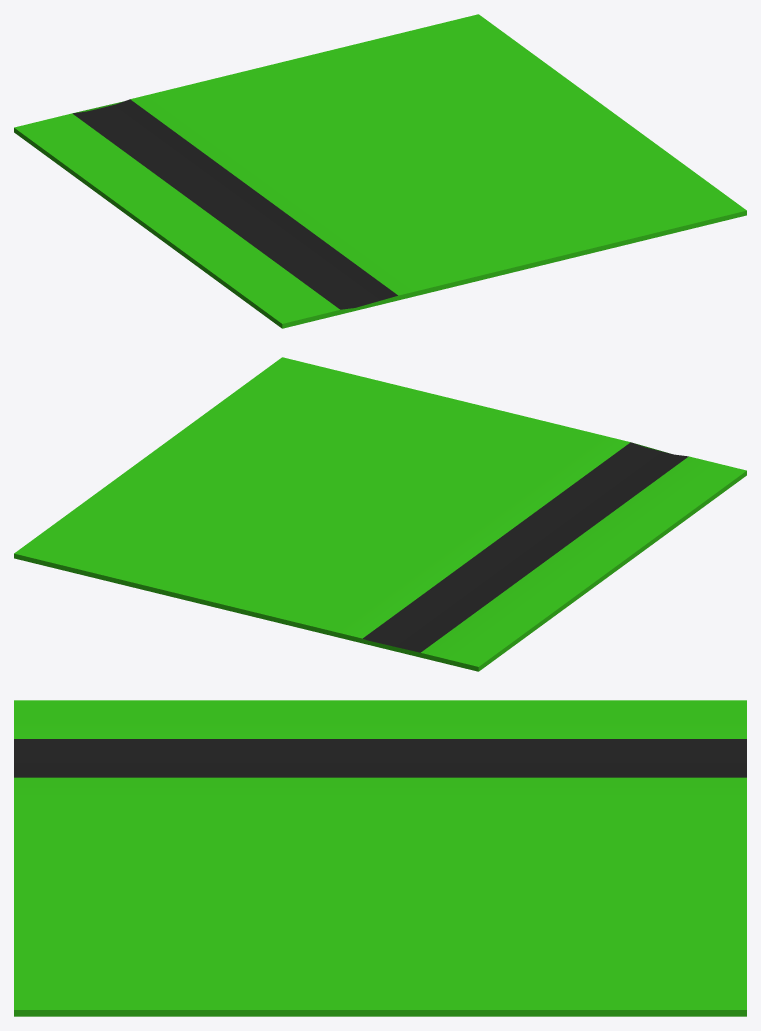
Rendered from Ground_Road.FBX.
The picture shows the model from 3 angles, top to bottom: view 1: azimuth 30°, elevation 25°; view 2: azimuth 150°, elevation 25°; view 3: azimuth 270°, elevation 25°; orthographic projection. The views are drawn at different scales.
Visible parts, largest first — view 1: Floor; view 2: Floor; view 3: Floor.
Part boxes in pixels (x1,y1,x2,y2): Floor: (14,14,746,328); Floor: (14,357,746,671); Floor: (14,700,746,1016).
Bounding box in the file's own units: 7176 × 71.49 × 7176.
